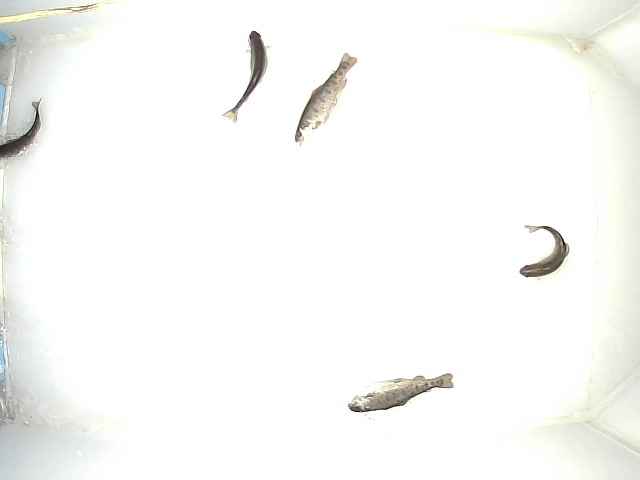fish: (294, 50, 358, 147), (220, 30, 272, 124), (347, 372, 454, 413), (518, 224, 570, 282)
